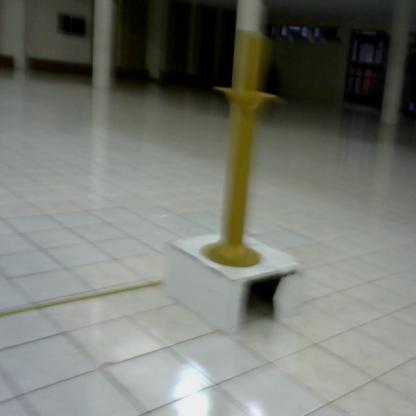pole: (203, 32, 283, 273)
